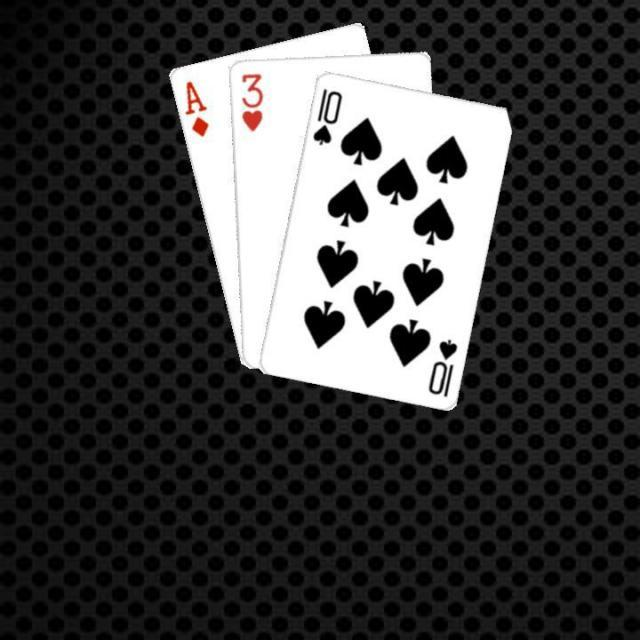10S: (424, 334, 460, 398), (308, 84, 344, 146)
3H: (237, 70, 264, 134)
AD: (180, 76, 210, 138)
